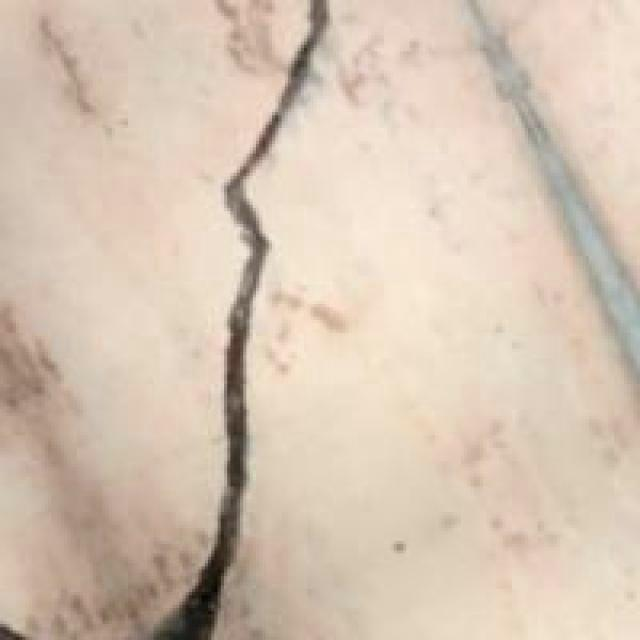SurfaceCrack: (138, 0, 354, 640)
